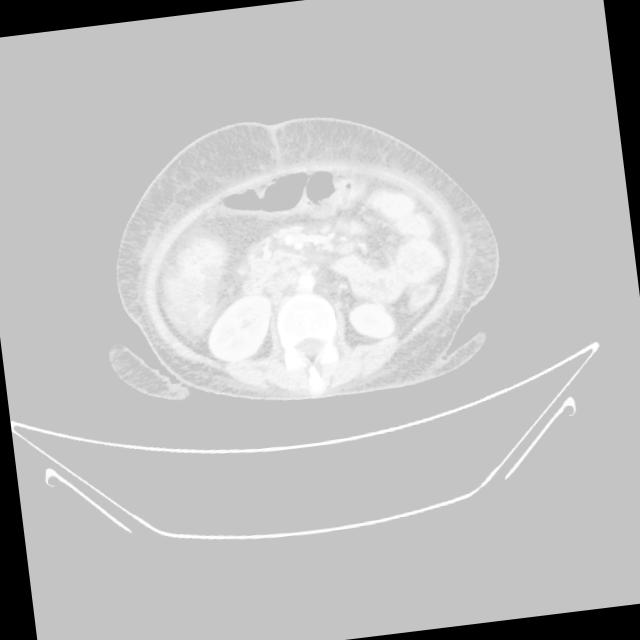NORMAL: (73, 114, 571, 385)
